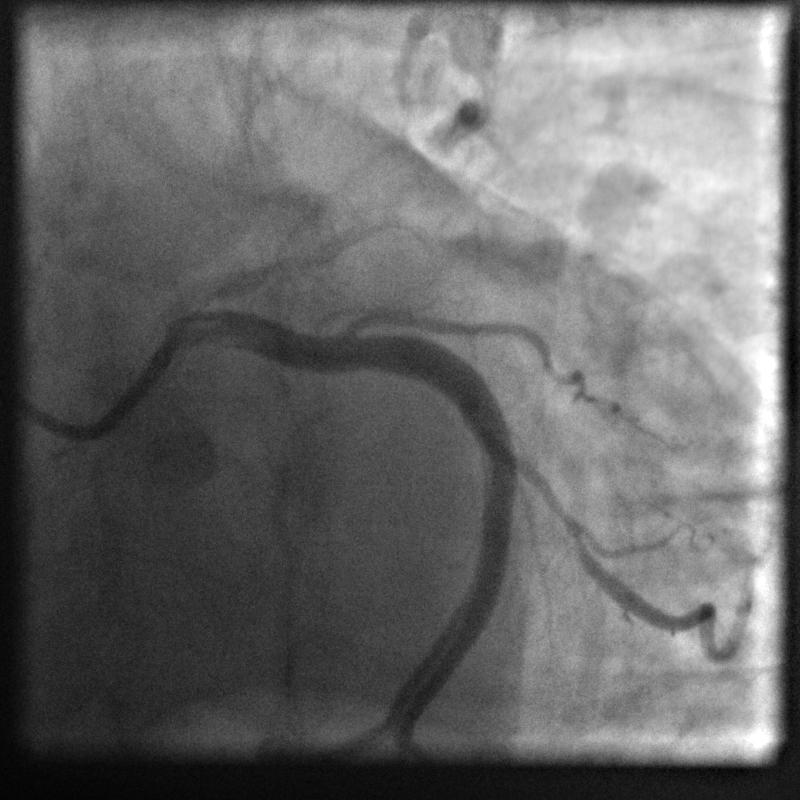Stenosis: (511, 432, 587, 554)
